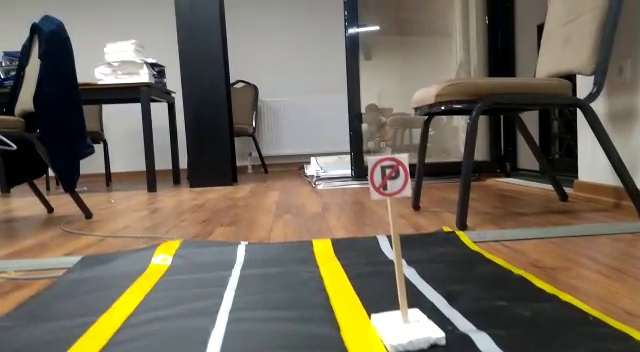park_yapilmaz: (369, 153, 408, 197)
